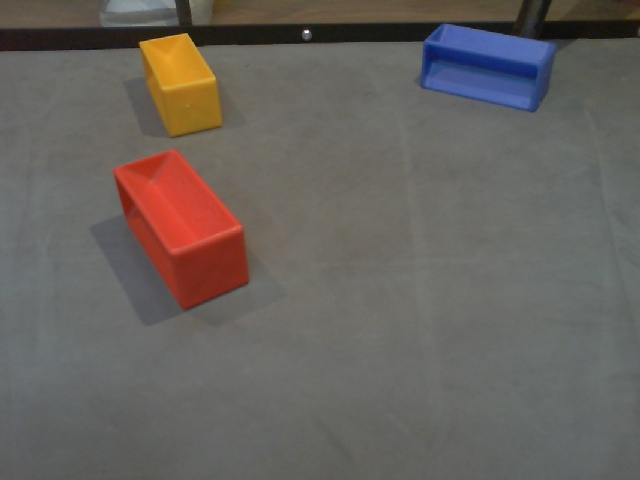BlueSample: (414, 18, 558, 117)
RedSample: (109, 147, 252, 313)
YellowSample: (135, 31, 224, 140)
